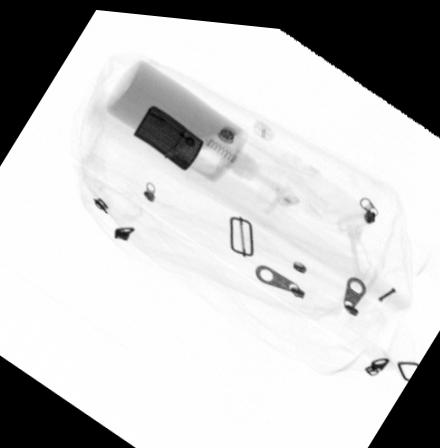Lighter: (132, 101, 204, 166)
